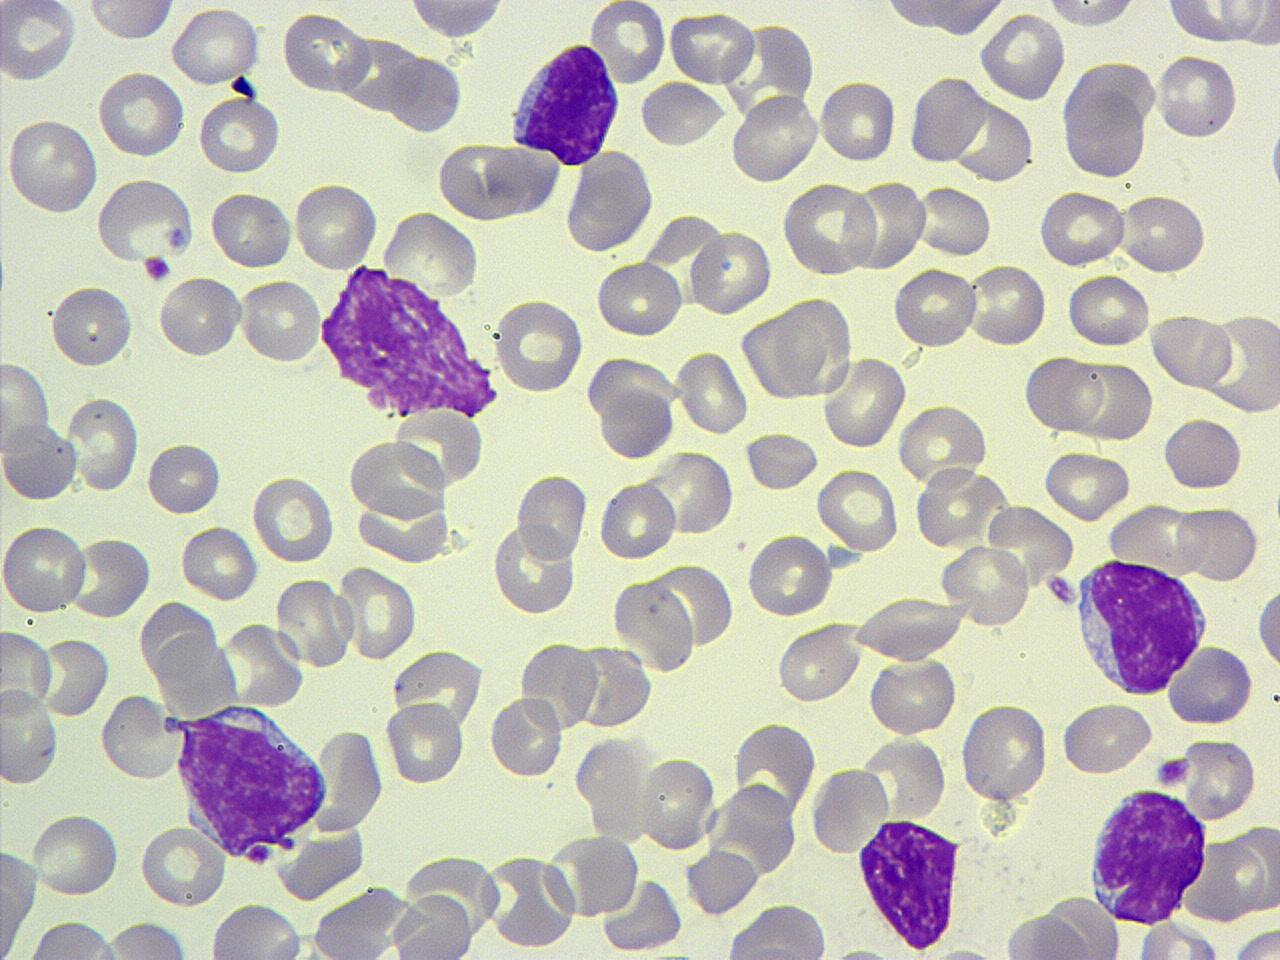Platelets: (1154, 754, 1192, 789), (833, 942, 892, 960), (142, 254, 173, 284)
RBC: (479, 850, 578, 952), (562, 150, 658, 253), (3, 117, 101, 217), (958, 700, 1050, 804), (493, 294, 587, 395), (1060, 76, 1148, 182), (379, 208, 480, 299), (782, 179, 876, 277), (95, 176, 197, 266), (345, 434, 449, 520), (820, 354, 910, 451), (610, 575, 696, 675), (336, 560, 419, 662), (96, 68, 187, 160), (977, 10, 1068, 103), (549, 830, 641, 922), (30, 808, 122, 899), (391, 406, 487, 494), (730, 93, 820, 185), (281, 7, 375, 96), (291, 179, 379, 274), (896, 402, 992, 489), (250, 470, 336, 566), (744, 530, 834, 620), (940, 542, 1033, 628), (492, 522, 578, 616), (97, 690, 182, 784), (2, 520, 87, 615), (168, 5, 264, 89), (845, 176, 927, 273), (1106, 499, 1212, 574), (985, 502, 1075, 590), (237, 274, 324, 366), (48, 281, 136, 371), (688, 226, 774, 318), (866, 654, 958, 739), (638, 754, 718, 852), (273, 574, 356, 668), (594, 256, 684, 341), (1165, 642, 1257, 726), (138, 823, 227, 909), (1154, 51, 1238, 142), (653, 560, 735, 652), (854, 594, 966, 662), (66, 393, 141, 493), (774, 620, 862, 706), (892, 263, 978, 351), (1119, 192, 1207, 276), (436, 139, 526, 223), (1058, 702, 1156, 778), (208, 187, 295, 271), (156, 273, 241, 361), (1038, 187, 1128, 269), (810, 763, 889, 857), (383, 699, 467, 787), (519, 638, 597, 732), (654, 446, 734, 536), (196, 93, 281, 176), (816, 468, 900, 554), (666, 8, 758, 86), (967, 261, 1047, 349), (908, 73, 985, 164), (514, 469, 590, 562), (1177, 500, 1261, 584), (1149, 309, 1235, 390), (818, 76, 896, 165), (590, 0, 668, 88), (487, 692, 564, 781), (577, 639, 652, 729), (676, 347, 752, 437), (1041, 447, 1133, 520), (597, 476, 677, 560), (179, 521, 260, 604), (1, 418, 80, 503), (1182, 735, 1260, 821), (1065, 272, 1151, 350), (1020, 356, 1108, 432), (1162, 413, 1244, 493), (603, 877, 685, 956), (720, 901, 830, 959), (39, 632, 113, 720), (0, 0, 79, 82), (0, 684, 60, 787), (914, 182, 992, 260), (145, 440, 223, 518), (483, 143, 563, 219), (390, 888, 475, 960), (208, 899, 306, 960), (390, 53, 464, 134), (598, 386, 676, 461), (640, 78, 722, 149), (684, 844, 762, 918), (0, 358, 54, 462), (873, 1, 1012, 40), (1, 626, 56, 722), (1000, 908, 1096, 960), (1163, 0, 1269, 45), (742, 429, 818, 491), (402, 0, 512, 41), (84, 0, 178, 43), (21, 919, 123, 959), (1135, 916, 1223, 960), (105, 918, 191, 960), (1040, 0, 1146, 32), (1254, 580, 1280, 675), (1232, 924, 1280, 960), (833, 942, 893, 960)
WBC: (315, 258, 504, 424), (166, 699, 324, 858), (1070, 556, 1210, 698), (1084, 786, 1212, 926), (507, 38, 625, 169), (854, 815, 966, 952), (373, 200, 489, 301), (314, 888, 476, 959), (865, 0, 1021, 36), (400, 0, 514, 40)
